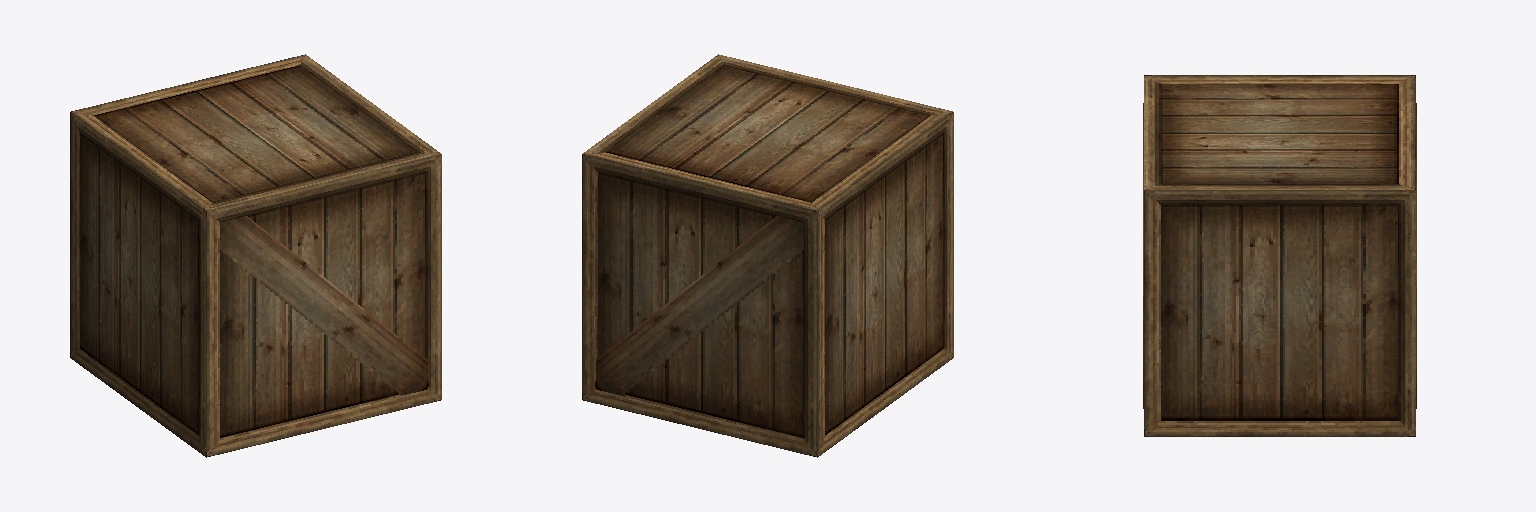
The picture shows the model from 3 angles: view 1: azimuth 30°, elevation 25°; view 2: azimuth 150°, elevation 25°; view 3: azimuth 270°, elevation 25°; orthographic projection.
Visible parts, largest first — view 1: polygon0; view 2: polygon0; view 3: polygon0.
Boxes of the visible parts, box(x1,y1,x2,y2) form: polygon0: box(70, 54, 441, 457); polygon0: box(582, 54, 953, 457); polygon0: box(1143, 75, 1416, 436).
Size of the model in its own units: 20.01 by 20.01 by 20.16.
Materials: 1 (1 with a texture image).